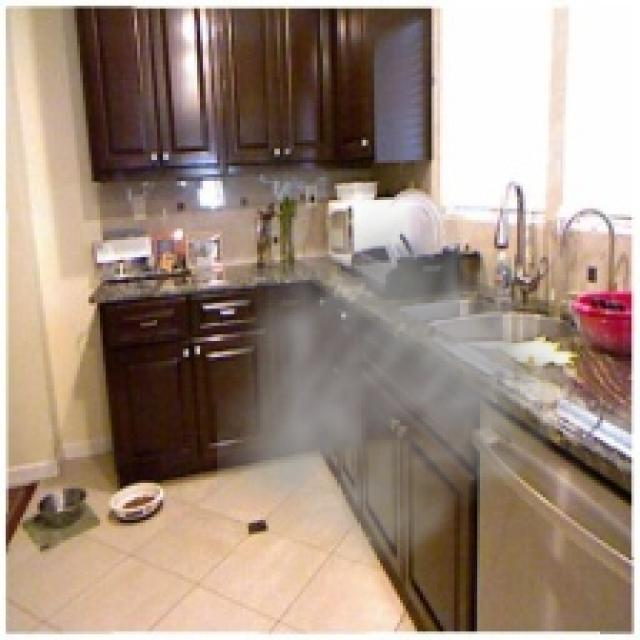smoke: (217, 188, 609, 588)
